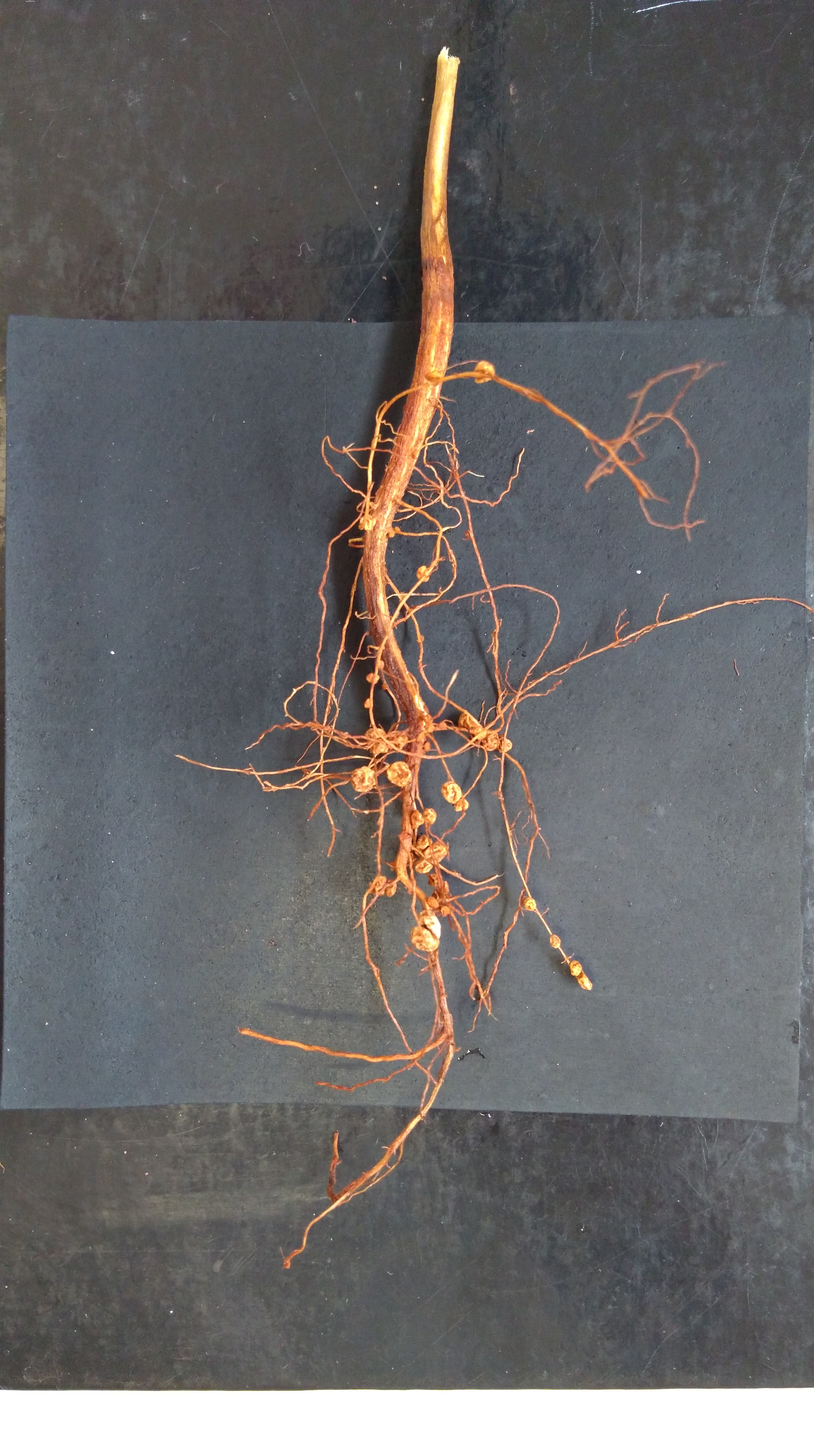nodule: (410, 910, 443, 955), (569, 957, 596, 996), (384, 759, 412, 789), (350, 764, 377, 794), (471, 359, 498, 388), (362, 727, 389, 755), (369, 874, 398, 899), (421, 844, 449, 865), (455, 708, 479, 732), (479, 726, 500, 753), (439, 780, 462, 804), (421, 369, 447, 388), (388, 730, 408, 753), (407, 808, 425, 830), (412, 858, 434, 876), (546, 930, 563, 953), (520, 893, 539, 913), (414, 564, 432, 585), (358, 513, 377, 532), (421, 806, 438, 827), (498, 734, 512, 756), (415, 832, 430, 851), (424, 894, 440, 910), (472, 724, 487, 740), (365, 671, 380, 685), (439, 903, 453, 918), (454, 797, 469, 811), (428, 874, 439, 887), (362, 697, 372, 711), (420, 711, 432, 721), (415, 633, 425, 644), (424, 721, 434, 732), (376, 659, 385, 670), (422, 740, 431, 751), (416, 731, 425, 742), (438, 721, 447, 731), (394, 525, 403, 533), (387, 530, 395, 538), (382, 683, 388, 691)
